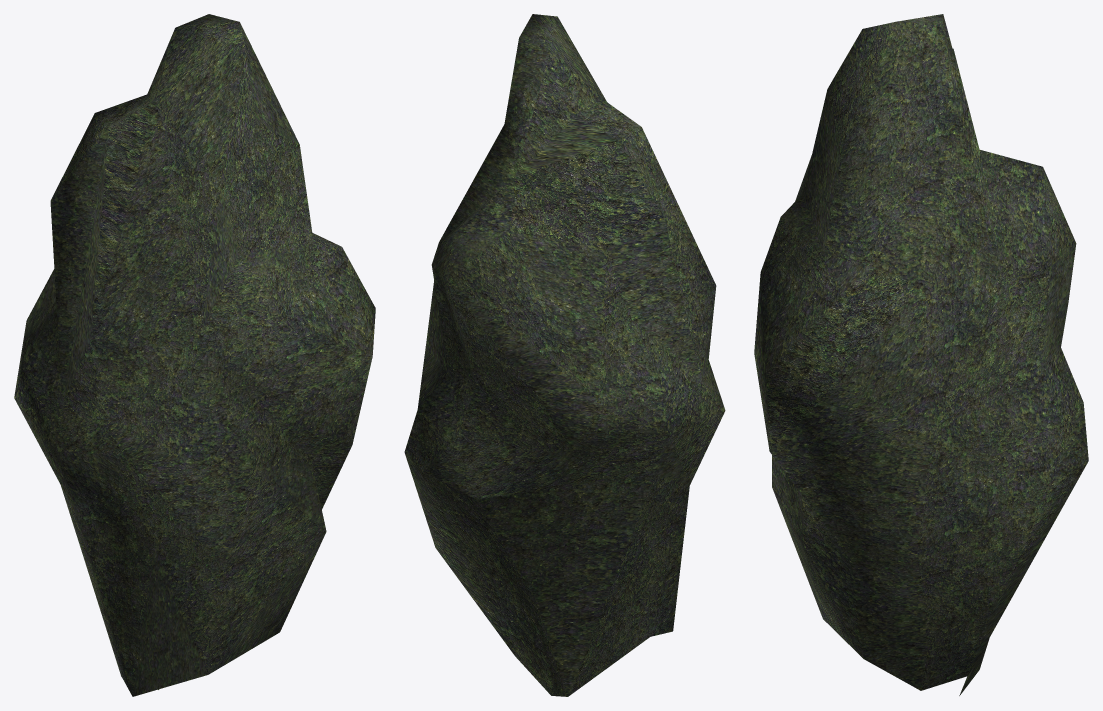
File: rock_pillar_01_lod_01.fbx
3 views of the same model, side by side, from view 1: azimuth 30°, elevation 25°; view 2: azimuth 150°, elevation 25°; view 3: azimuth 270°, elevation 25° (orthographic). The views are drawn at different scales.
Visible parts, largest first — view 1: rock_pillar_01; view 2: rock_pillar_01; view 3: rock_pillar_01.
Boxes of the visible parts, left/top/right/bottom form: rock_pillar_01: left=14, top=14, right=375, bottom=696; rock_pillar_01: left=404, top=14, right=725, bottom=696; rock_pillar_01: left=754, top=14, right=1088, bottom=695.
Bounding box in the file's own units: 17.31 × 37.3 × 16.15.
